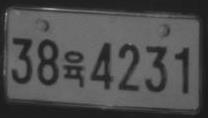1: (171, 46, 195, 94)
2: (118, 42, 139, 93)
3: (144, 44, 168, 92), (11, 36, 33, 86)
4: (90, 42, 115, 90)
8: (36, 39, 59, 85)
육: (62, 51, 86, 87)
